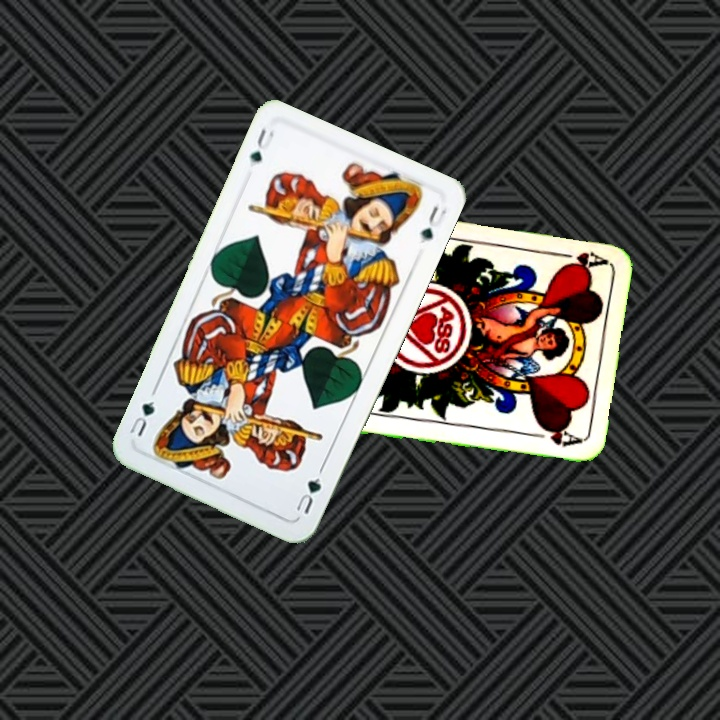GU: (291, 473, 324, 517), (245, 124, 277, 166)
HA: (548, 247, 607, 274)
